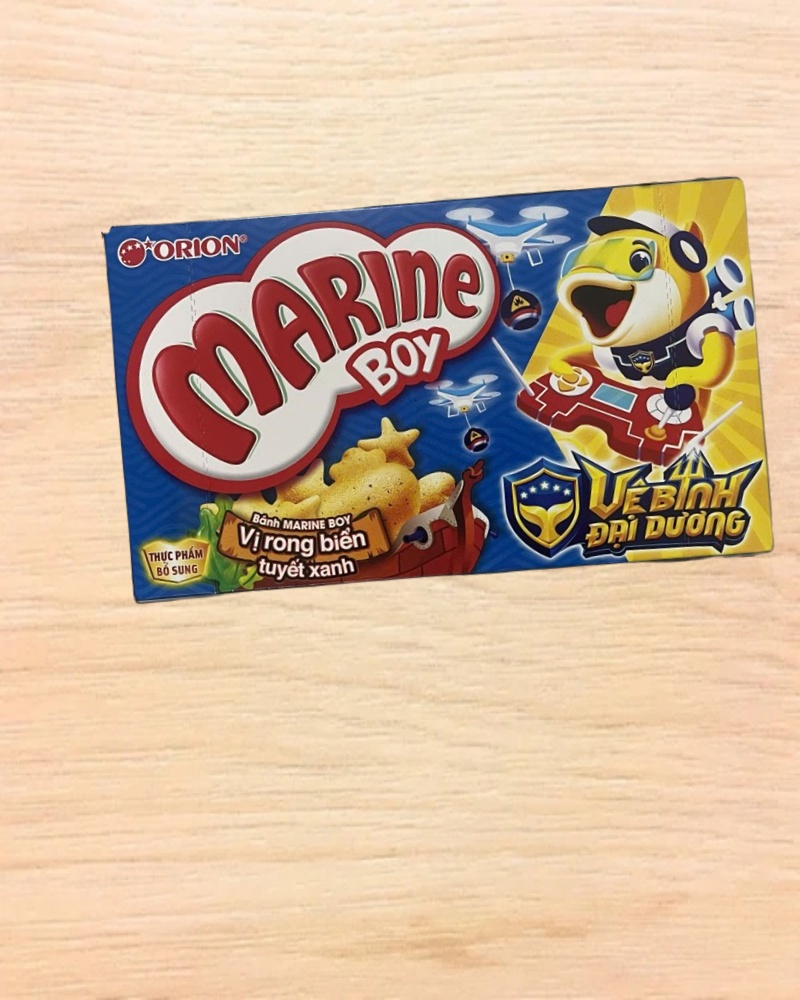Marine: (104, 172, 778, 609)
